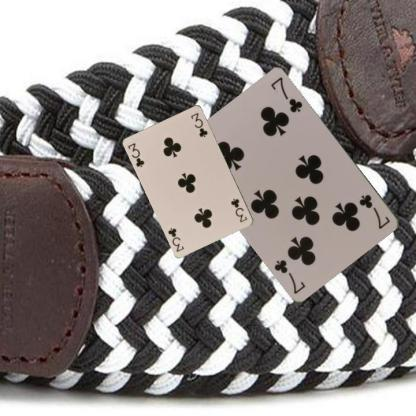3c: (126, 140, 146, 169), (228, 196, 249, 223)
7c: (356, 191, 392, 231)
